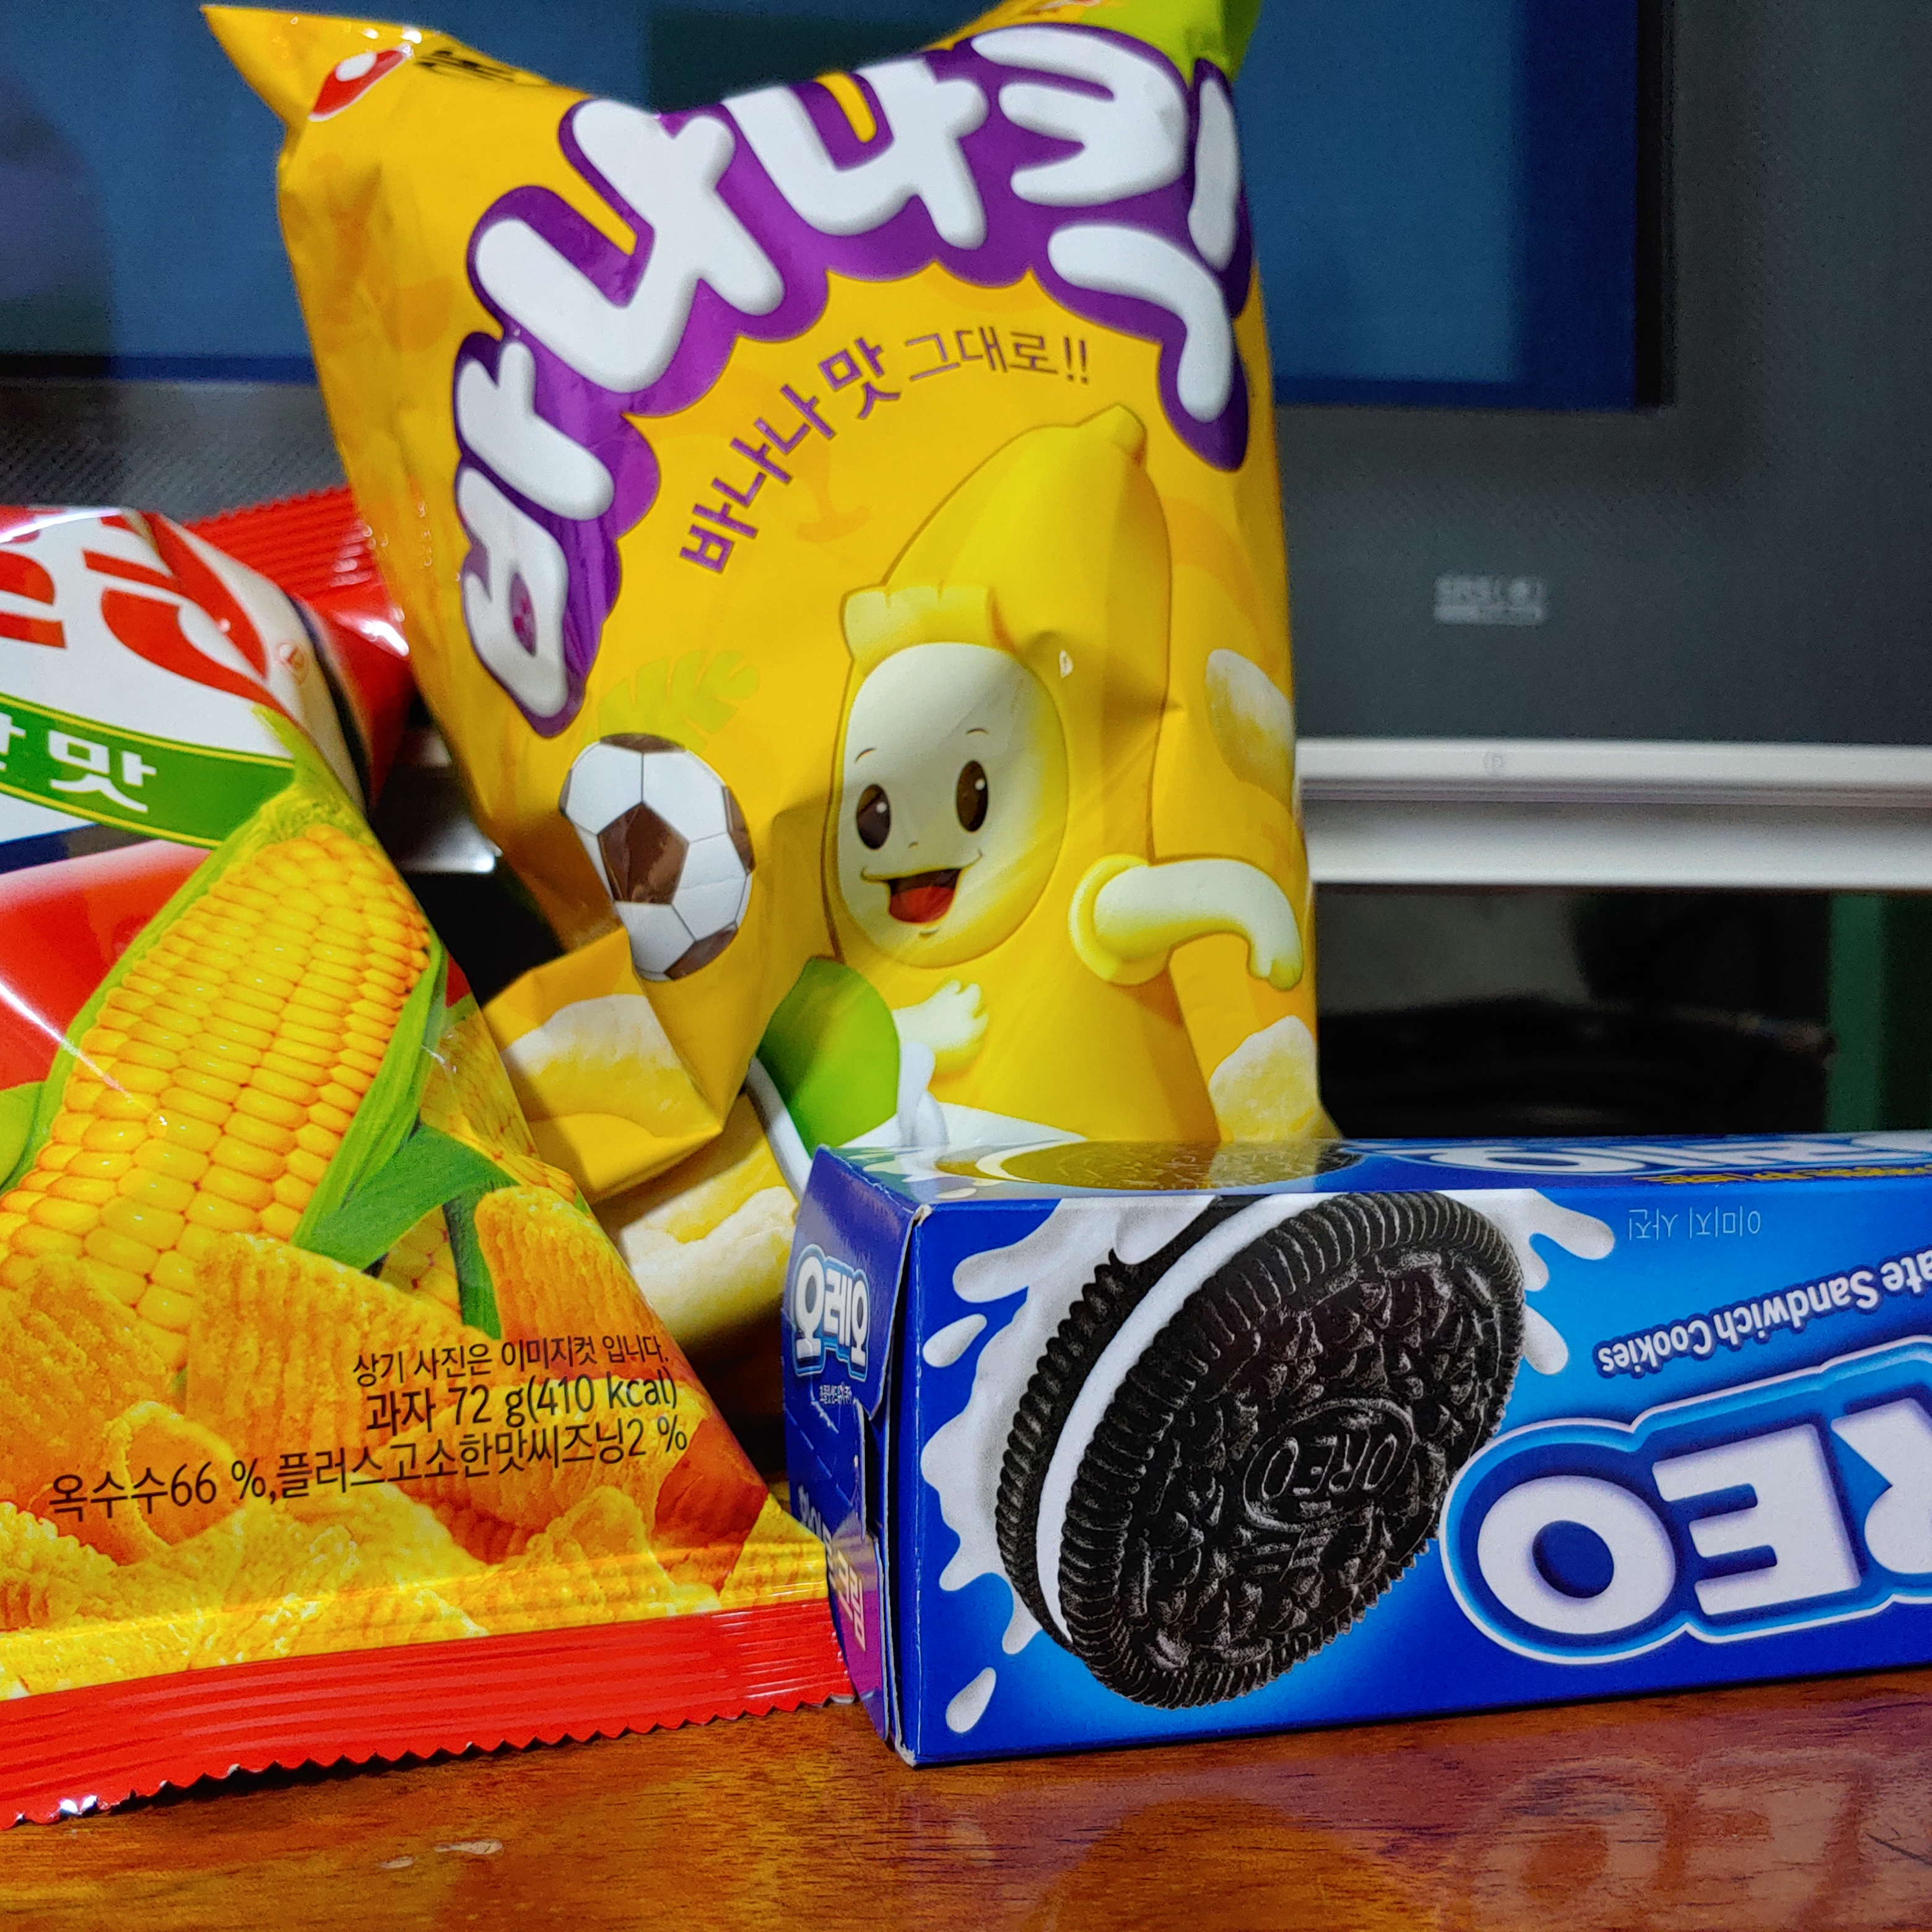banana: (173, 0, 1433, 1378)
ggoggalcon: (0, 421, 773, 1819)
oreo: (715, 1079, 1932, 1822)
